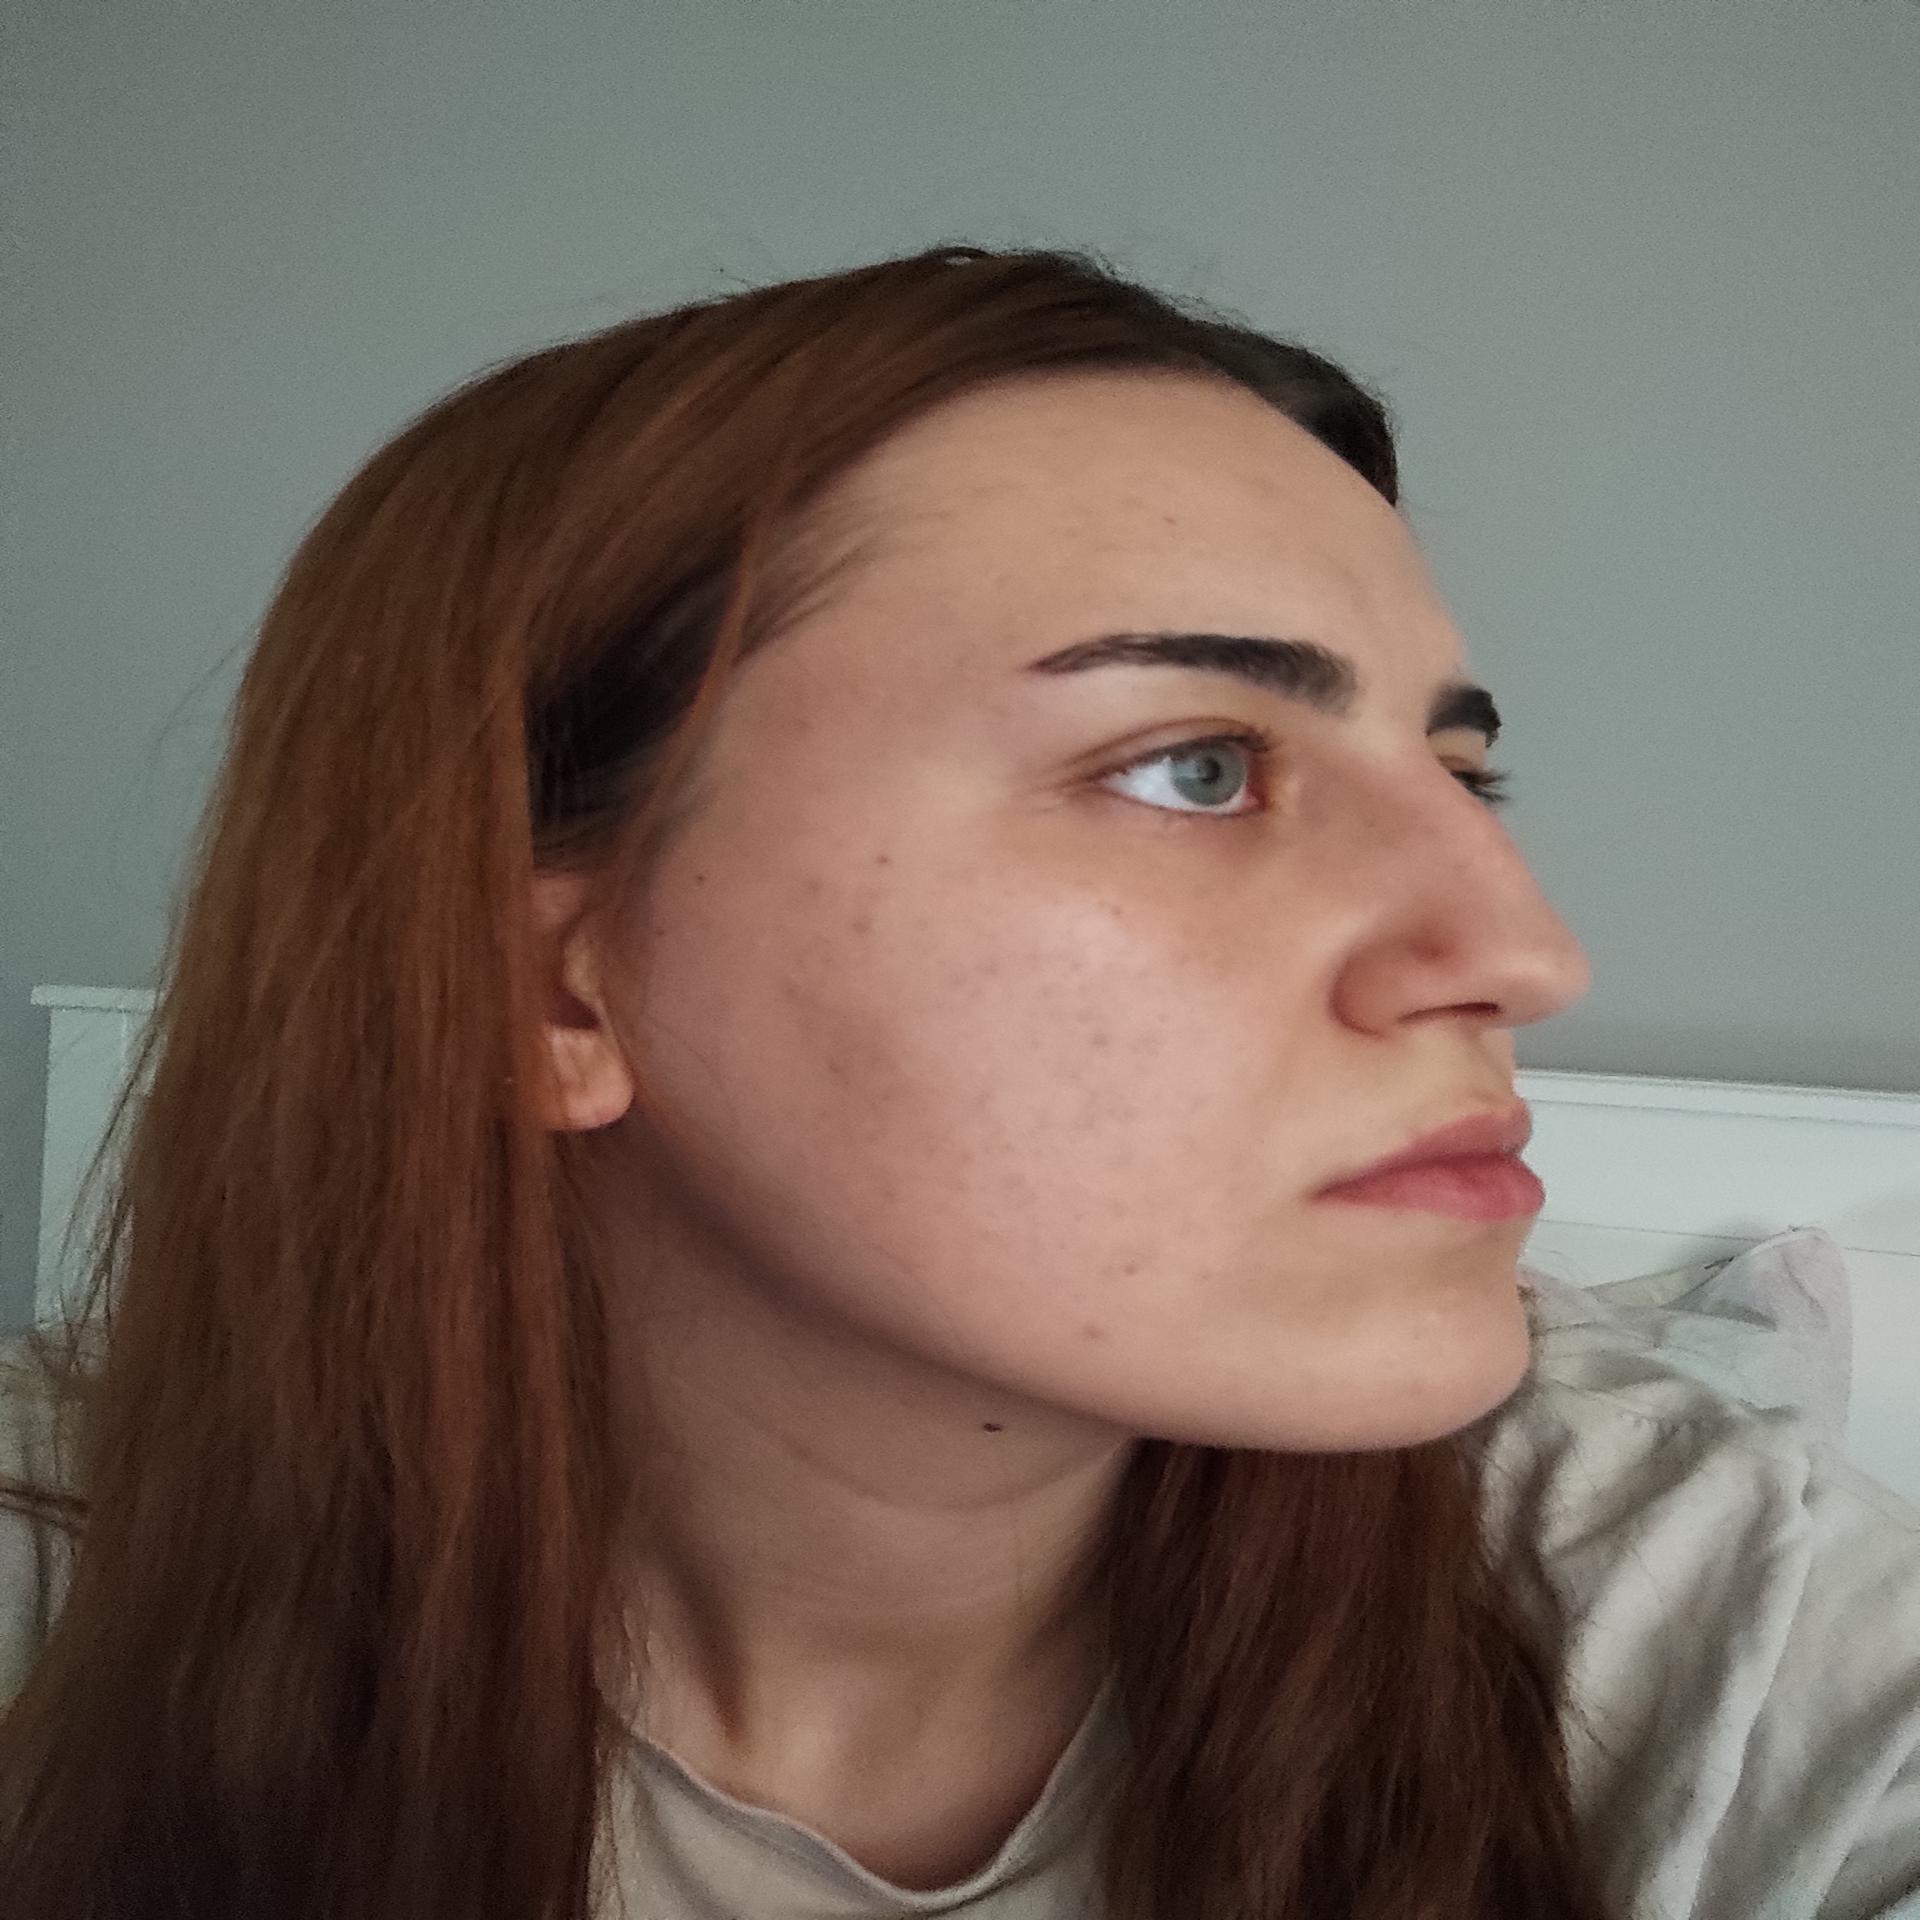Acne: (923, 953, 1013, 999), (1048, 990, 1113, 1044), (1405, 920, 1463, 969), (986, 1166, 1036, 1217), (1095, 1255, 1157, 1294), (777, 876, 832, 913), (807, 1051, 842, 1101), (835, 907, 886, 941), (1060, 1319, 1111, 1352)
